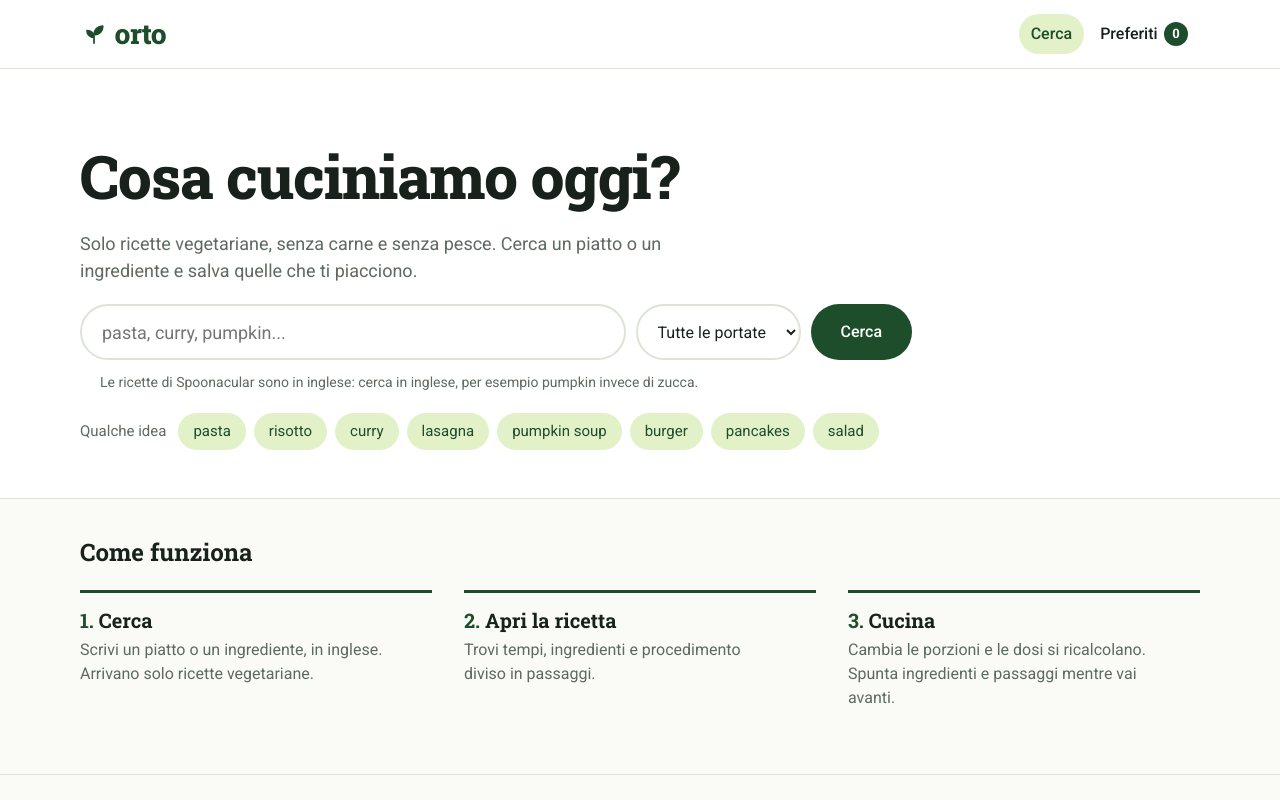
Test: ricerca dalla home › un suggerimento avvia la ricerca e mostra le schede
Click the button "curry" at (367, 431), box [335, 413, 398, 450]
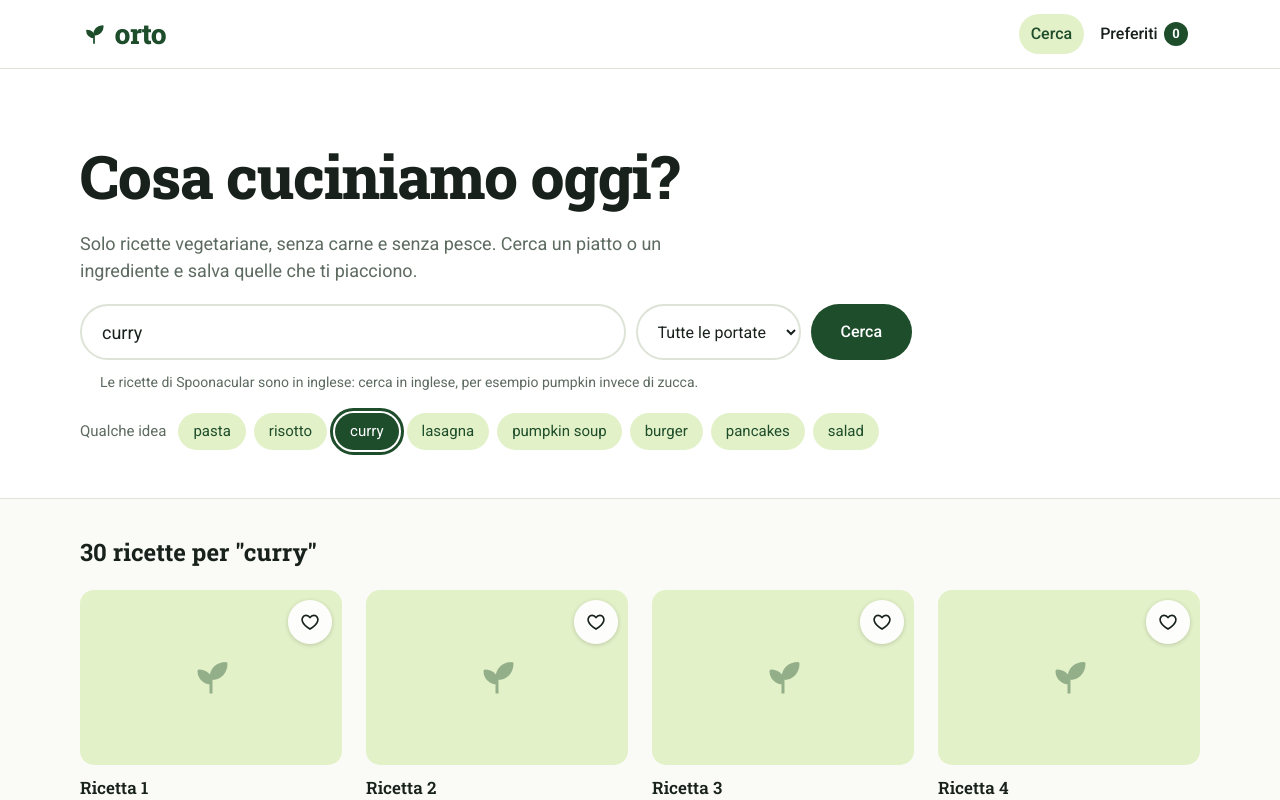
Expected: the heading "30 ricette per \"curry\"" is shown, [80, 536, 317, 568]
